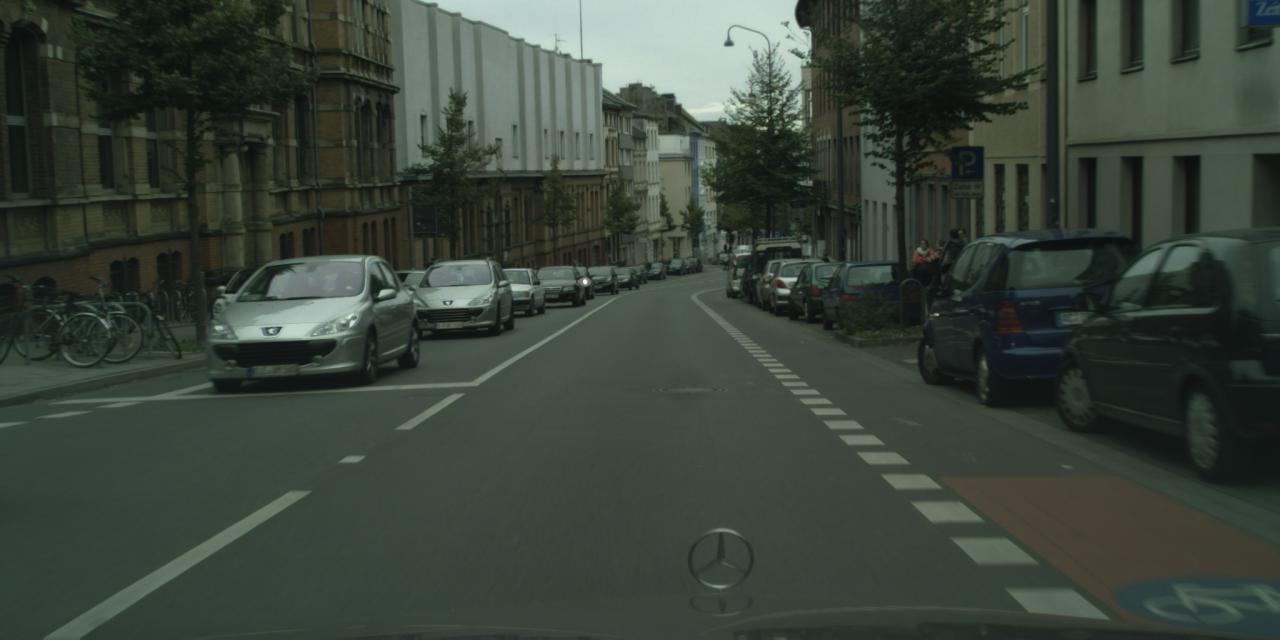ped: (936, 227, 972, 317), (948, 228, 979, 308), (926, 240, 956, 316), (910, 239, 939, 311), (817, 252, 832, 290), (723, 243, 728, 256)
